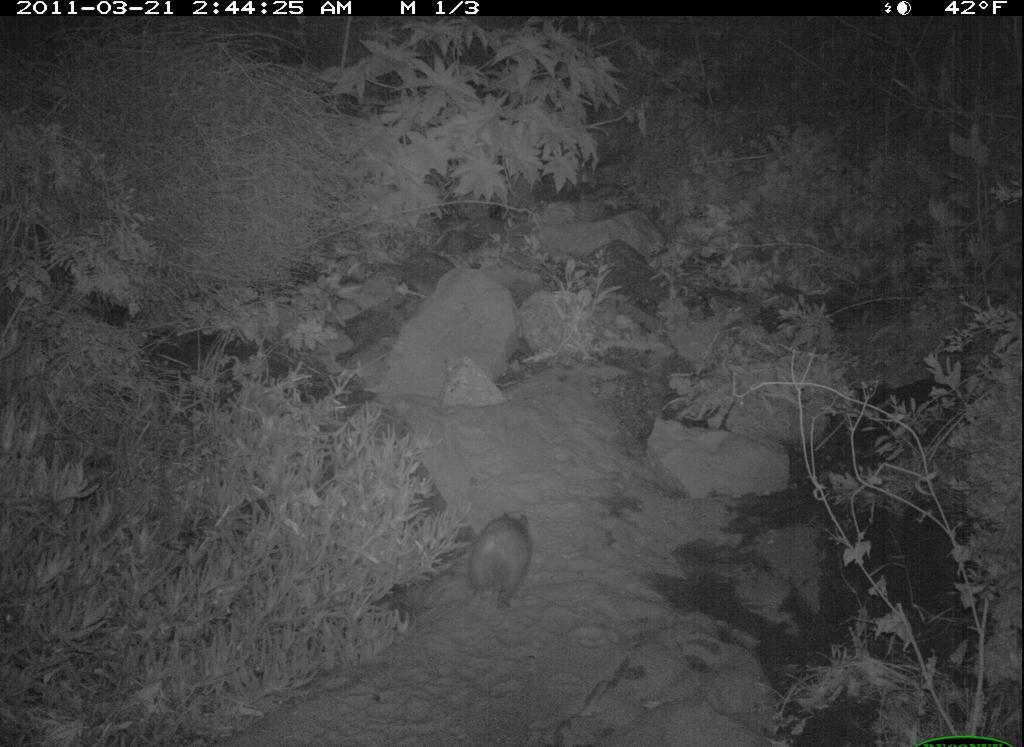opossum: (449, 503, 545, 620)
